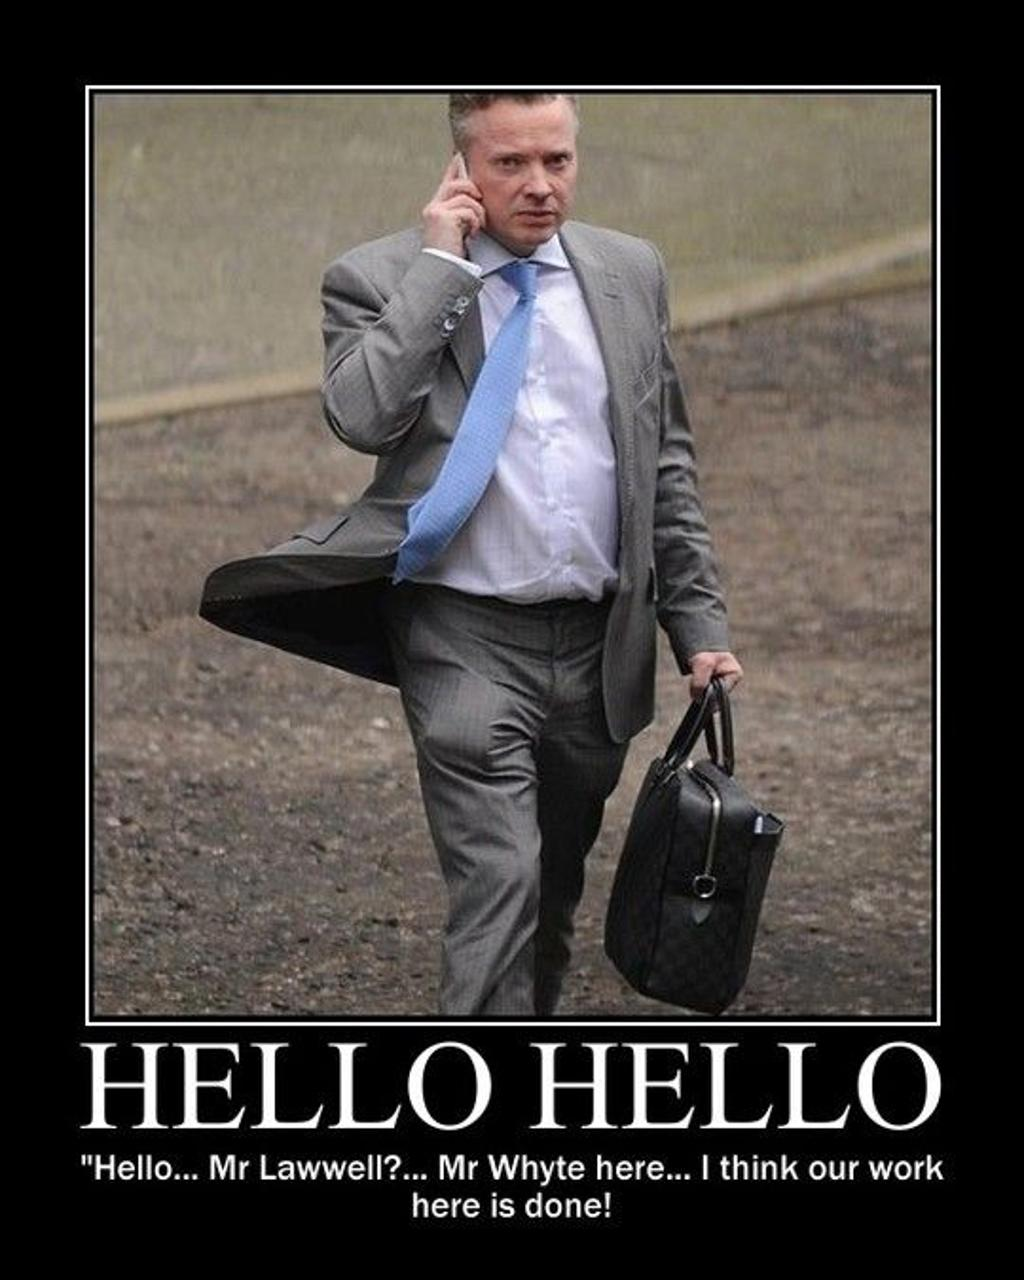face: (467, 95, 579, 245)
